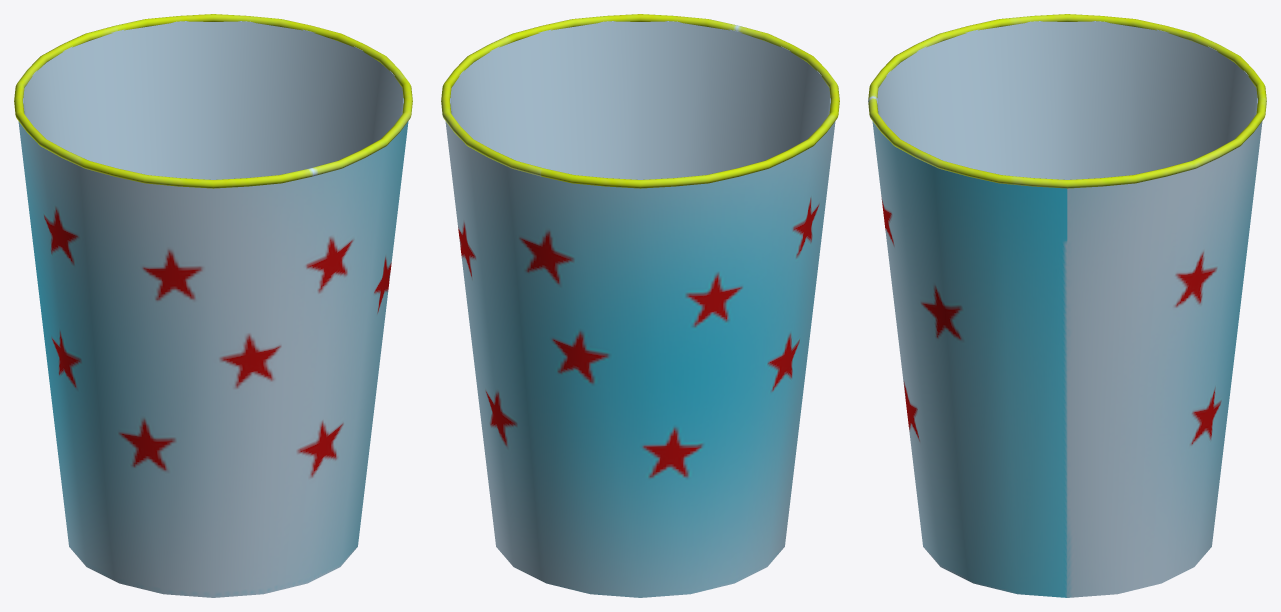
File: cylinder_test_navy_wood_c0.dae
3 views of the same model, side by side, from view 1: azimuth 30°, elevation 25°; view 2: azimuth 150°, elevation 25°; view 3: azimuth 270°, elevation 25° (orthographic).
Visible parts, largest first — view 1: aws_Trash_01_visual; view 2: aws_Trash_01_visual; view 3: aws_Trash_01_visual.
Part boxes in pixels (box(x1,y1,x2,y2)): aws_Trash_01_visual: box(14, 14, 412, 597); aws_Trash_01_visual: box(441, 14, 839, 597); aws_Trash_01_visual: box(868, 14, 1266, 597).
Bounding box in the file's own units: 28.5 × 28.28 × 34.34.
1 material, 1 textured.
